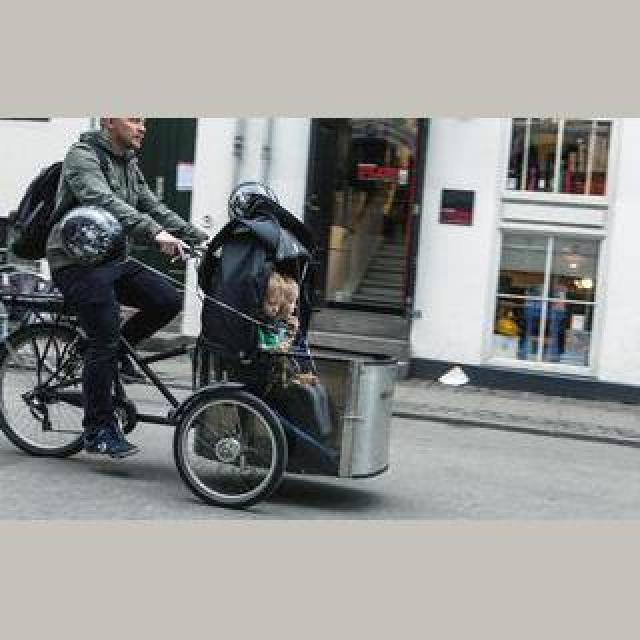MC-Bike: (40, 118, 208, 462)
Person: (0, 251, 298, 505)
